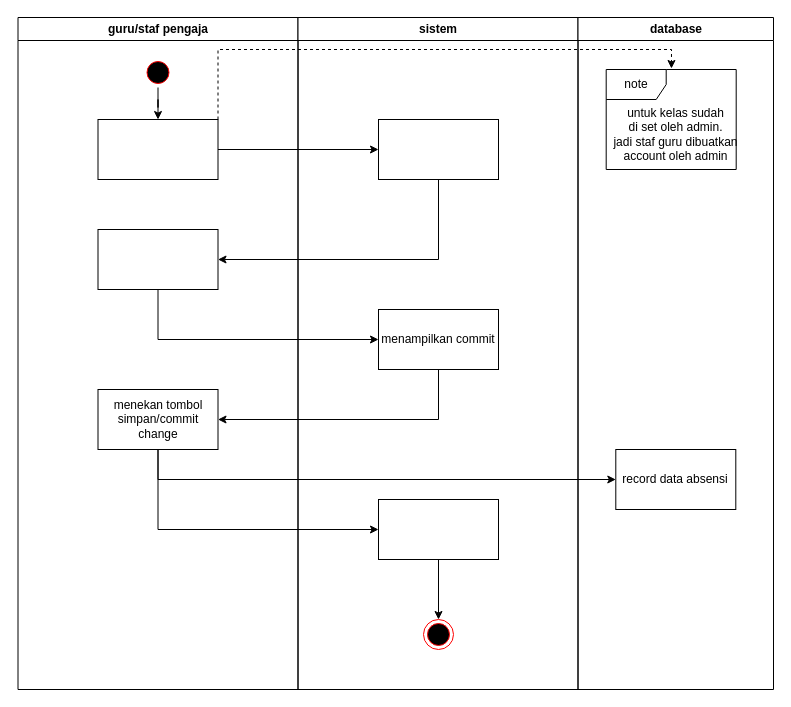
This 791x707 diagram has some shape labels left out. The centre of each missing label's shape, as x and y in pixels:
kembali ke menu utama: the point at 438,529
melakukan pengabsenan: the point at 157,259
memilih opsi absensi: the point at 157,149
menampilkan absensi kelas guru tersebut: the point at 438,149
